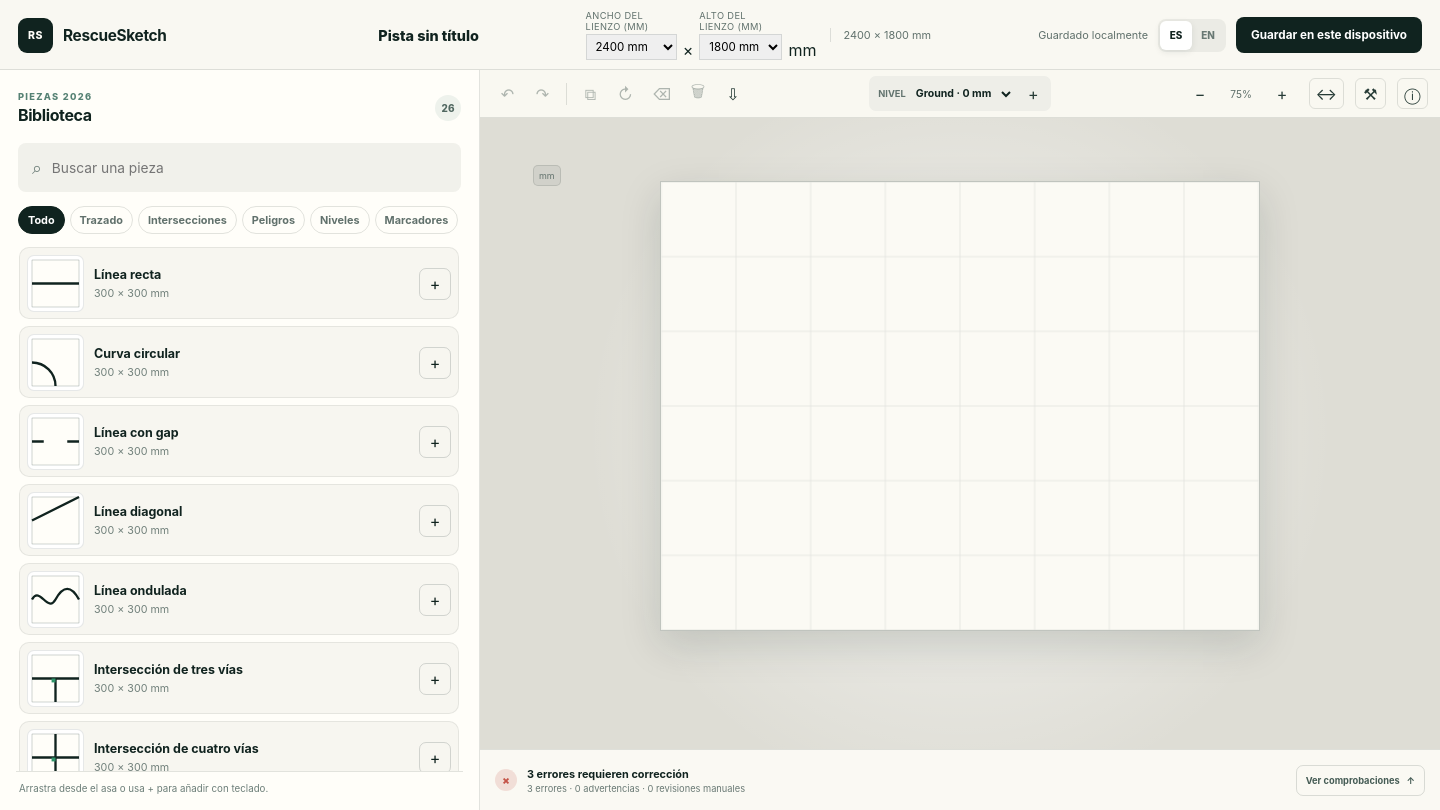
Test: EditorWorkspace › offers canonical JSON, physical SVG, and PNG export actions
Click the button named "Abrir opciones de exportación".
click(733, 94)  # box x1=718 y1=78 x2=748 y2=109
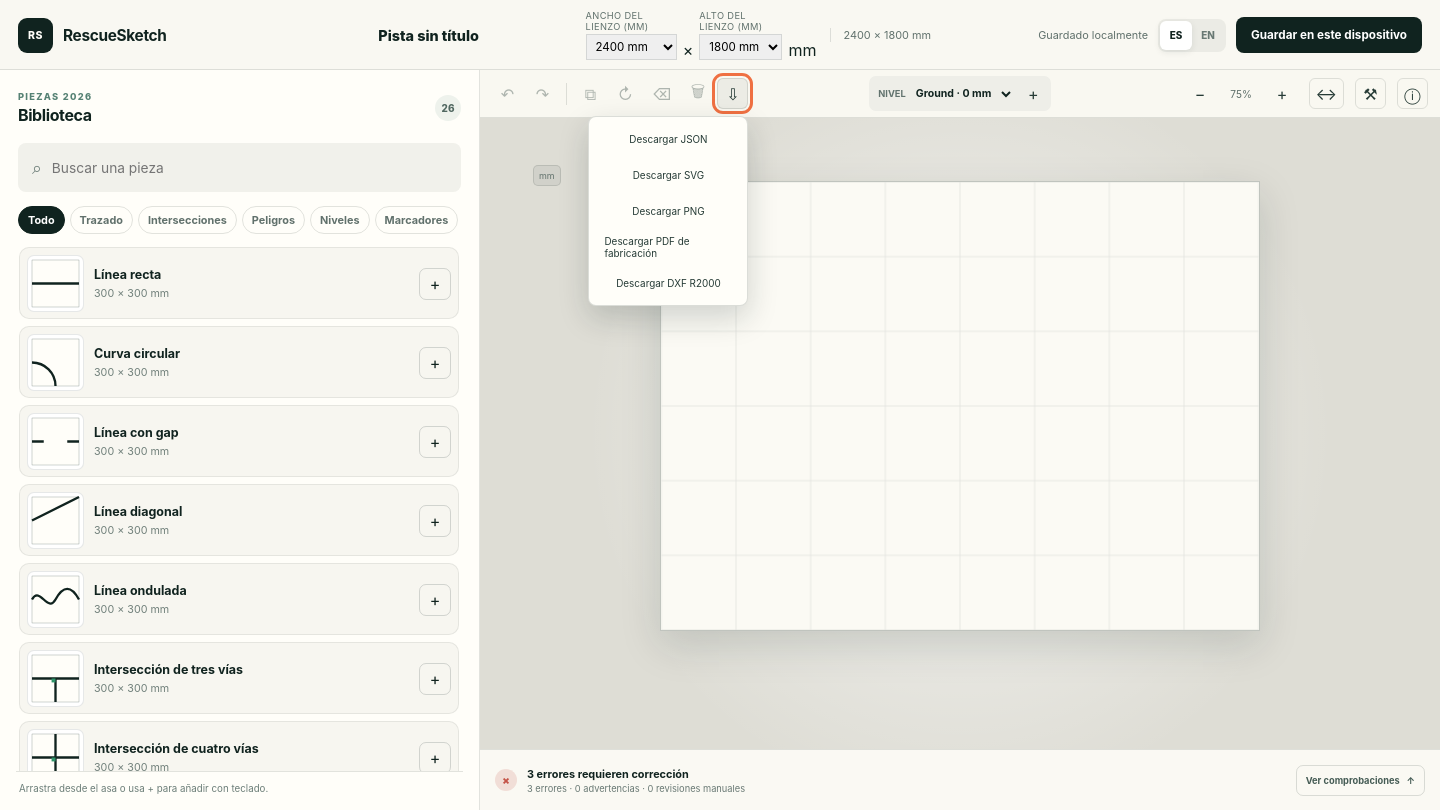
Result: the menu named "Exportar pista" is shown at x1=588 y1=116 x2=748 y2=306
Result: the menu item "Descargar JSON" is shown at x1=596 y1=123 x2=742 y2=155
Result: the menu item "Descargar SVG" is shown at x1=596 y1=159 x2=742 y2=191
